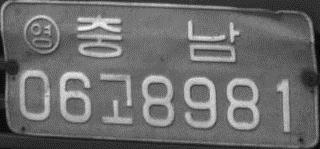0: (18, 68, 51, 121)
1: (265, 78, 300, 133)
6: (58, 70, 91, 123)
8: (225, 76, 261, 131), (140, 75, 176, 127)
9: (183, 76, 217, 129)
고: (97, 72, 134, 125)
영: (23, 14, 59, 55)
충남_D: (76, 14, 240, 63)
